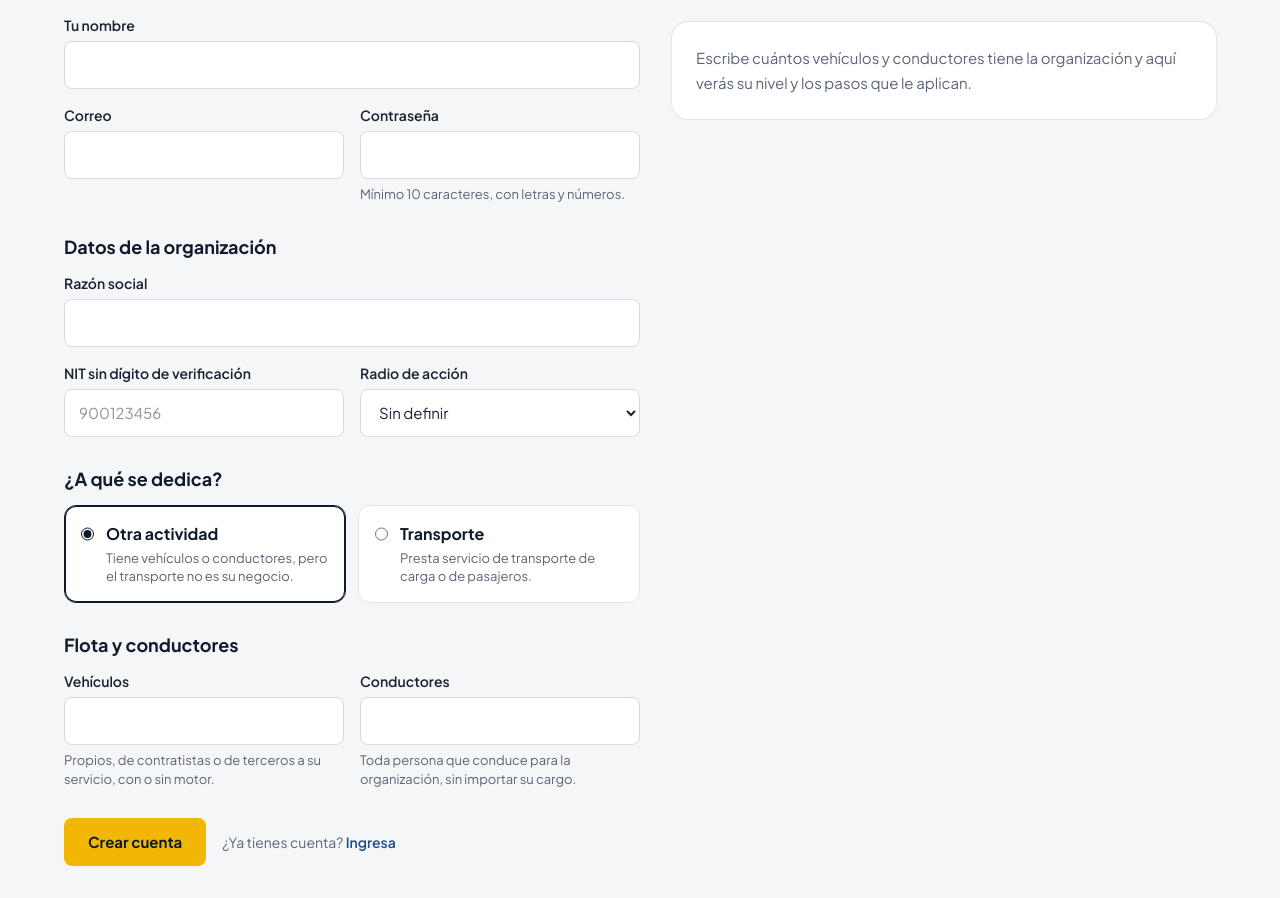
Test: Registro › muestra el nivel en vivo mientras se escriben flota y conductores
(page scrolled)
Expected: the text "aquí verás su nivel" is shown, x1=696 y1=48 x2=1176 y2=91
Type "64" into the number field labelled "Vehículos". click: coordinates (204, 720)
box: x1=64 y1=696 x2=344 y2=744
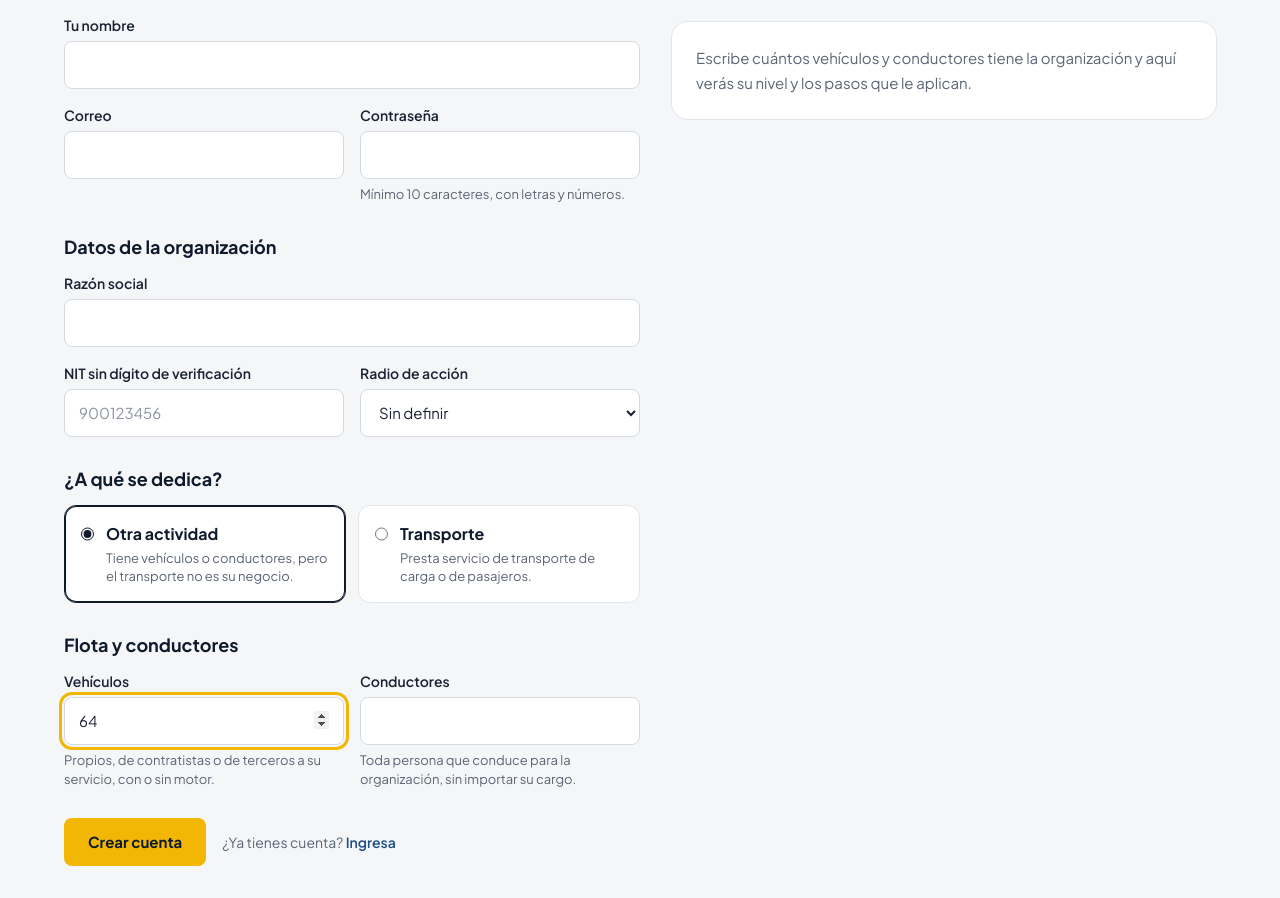
Type "30" into the number field labelled "Conductores". click: coordinates (500, 720)
box: x1=360 y1=696 x2=640 y2=744
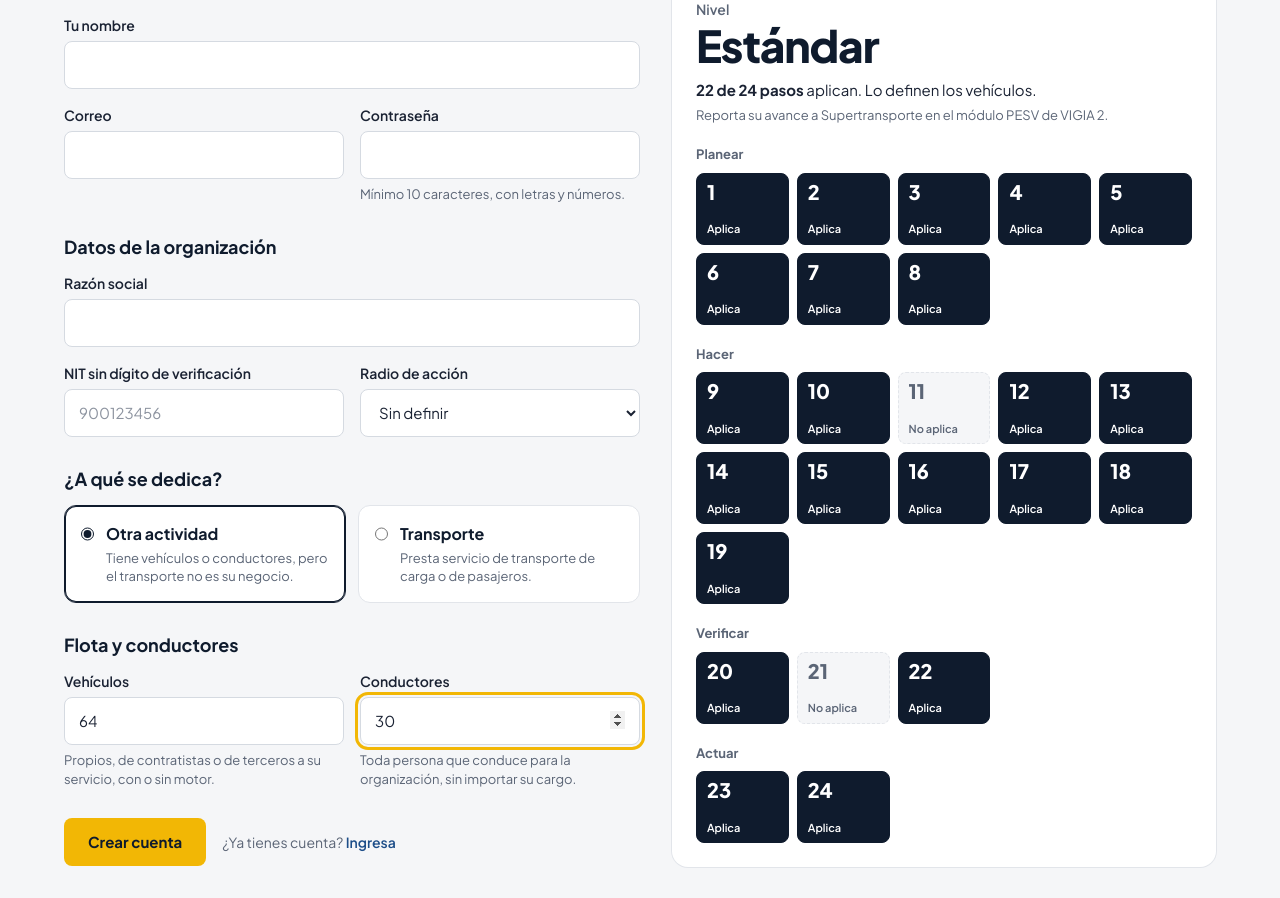
Expected: the text "Estándar" is shown, x1=696 y1=17 x2=879 y2=73
Expected: the text "22 de 24 pasos" is shown, x1=696 y1=80 x2=804 y2=99
Expected: the text "22 de 24 pasos aplican. Lo definen los vehículos." is shown, x1=696 y1=80 x2=1037 y2=99
